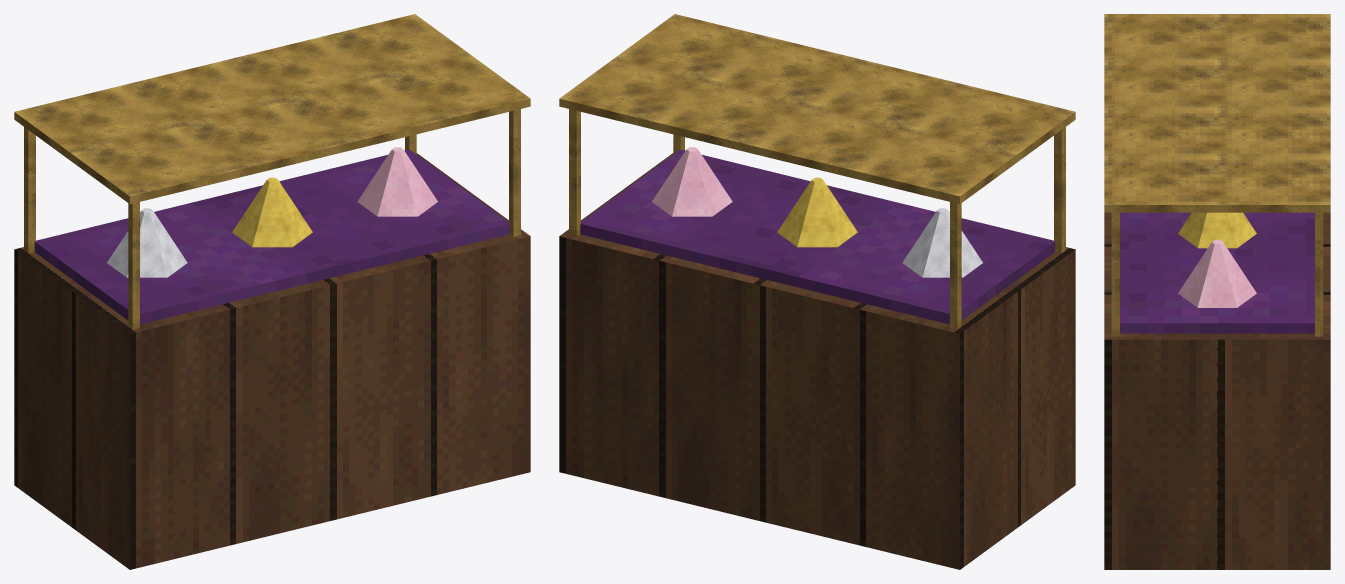
Rendered from vitrina.obj.
3 renders of one model, left to right at view 1: azimuth 30°, elevation 25°; view 2: azimuth 150°, elevation 25°; view 3: azimuth 270°, elevation 25°, orthographic. The views are drawn at different scales.
Parts seen in each view (by area): view 1: vitrina; view 2: vitrina; view 3: vitrina.
Part boxes in pixels (x1,y1,x2,y2): vitrina: (14,14,530,569); vitrina: (559,14,1075,569); vitrina: (1104,14,1330,569).
Bounding box in the file's own units: 1.6 × 1.42 × 0.8.
Materials: 6 (6 with a texture image).
